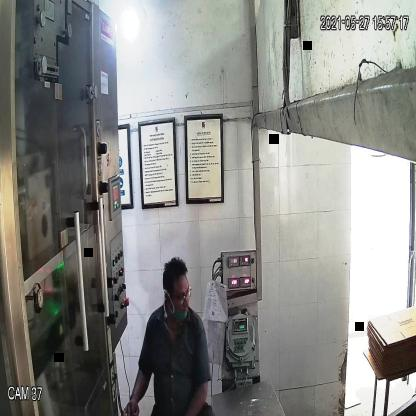goggles: (159, 280, 195, 306)
